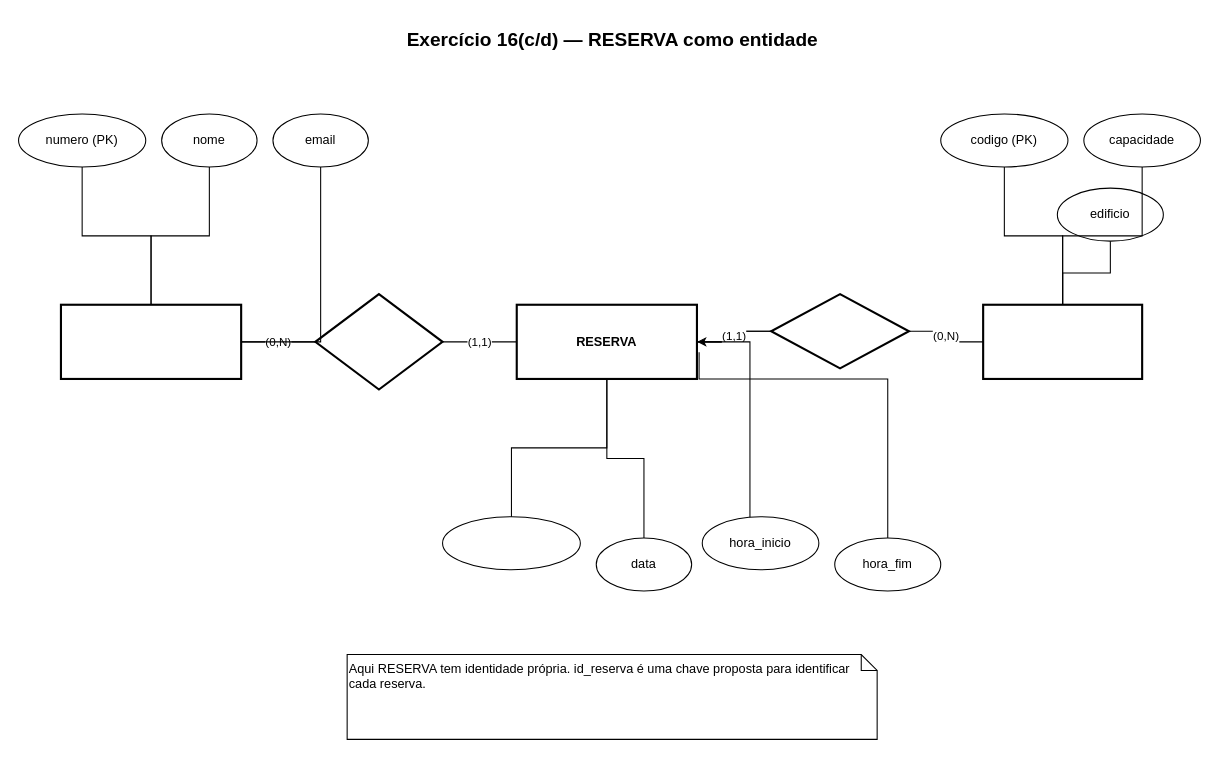
The diagram is 1219 pixels wide and 758 high, and some of its shapes have lost their labels. The shapes that lost their labels are listed below. From the top down, each one's centre as x and y in pixels, then its label:
At (x=150, y=341): "UTILIZADOR".
At (x=378, y=341): "EFETUA".
At (x=839, y=331): "REFERE_SE".
At (x=1062, y=341): "SALA".
At (x=510, y=543): "id_reserva (PK)".
